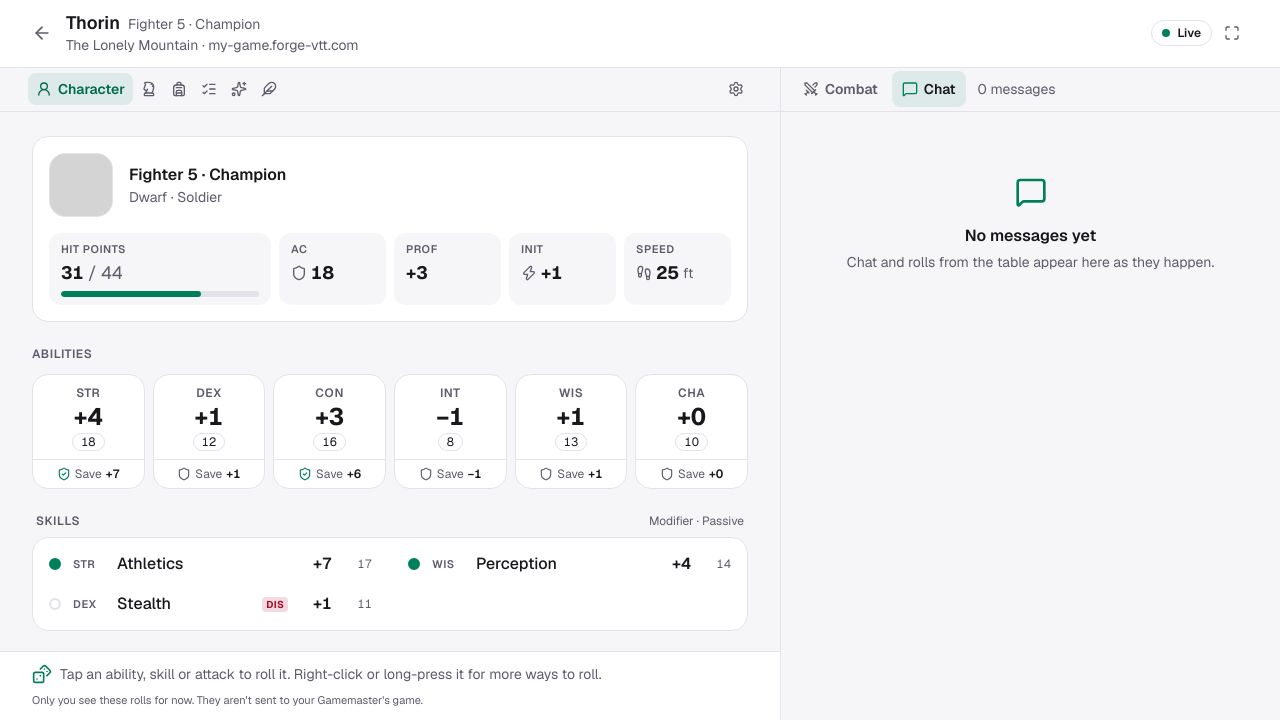
Test: components/game-table, notes › gives the sheet’s Biography tab the journal’s card through the seat’s API, for the player
Expected: the element "Journal" is not shown
Click the tab named "Biography" at (269, 89), box [255,73,283,105]
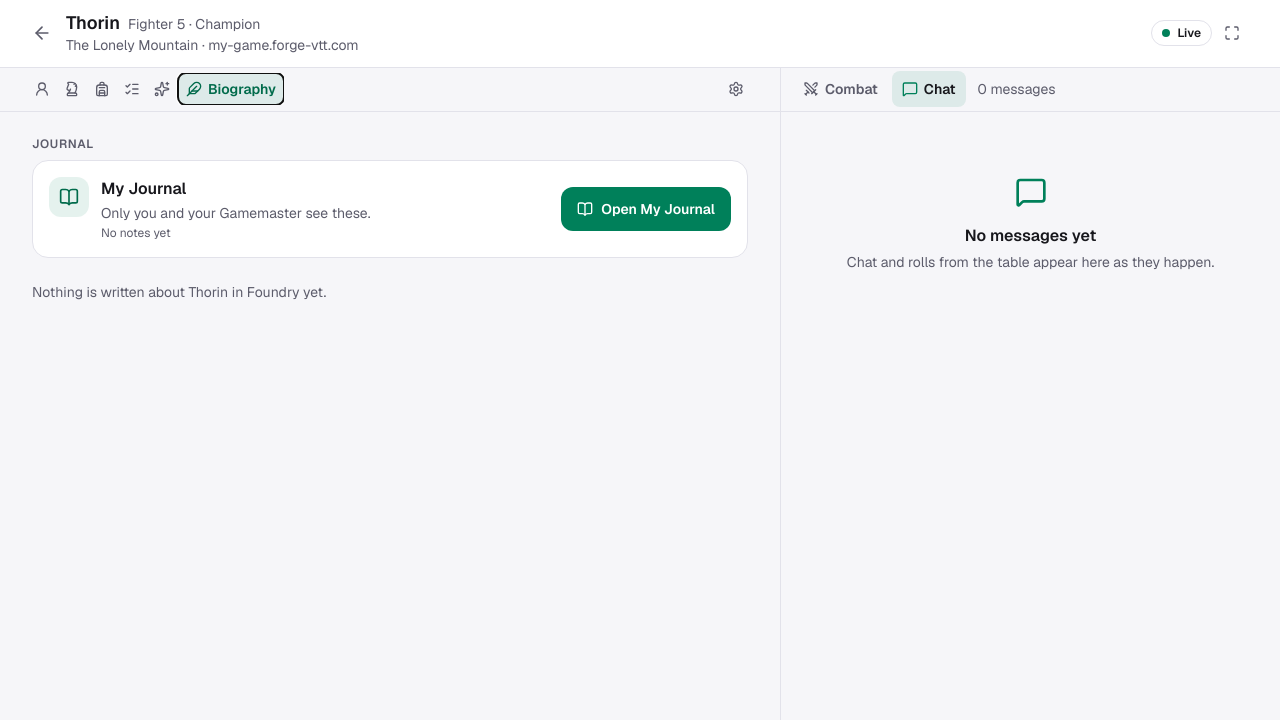
Now the text "Only you and your Gamemaster see these." is shown, box [101,202,370,222]
